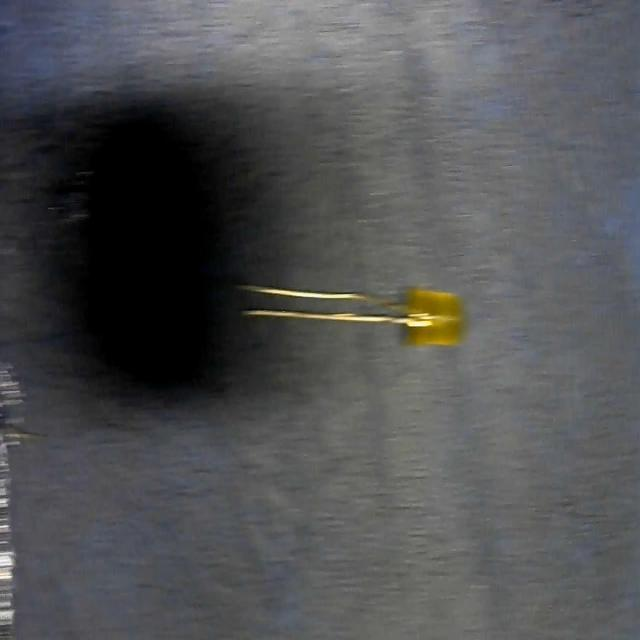LED: (234, 278, 464, 346)
